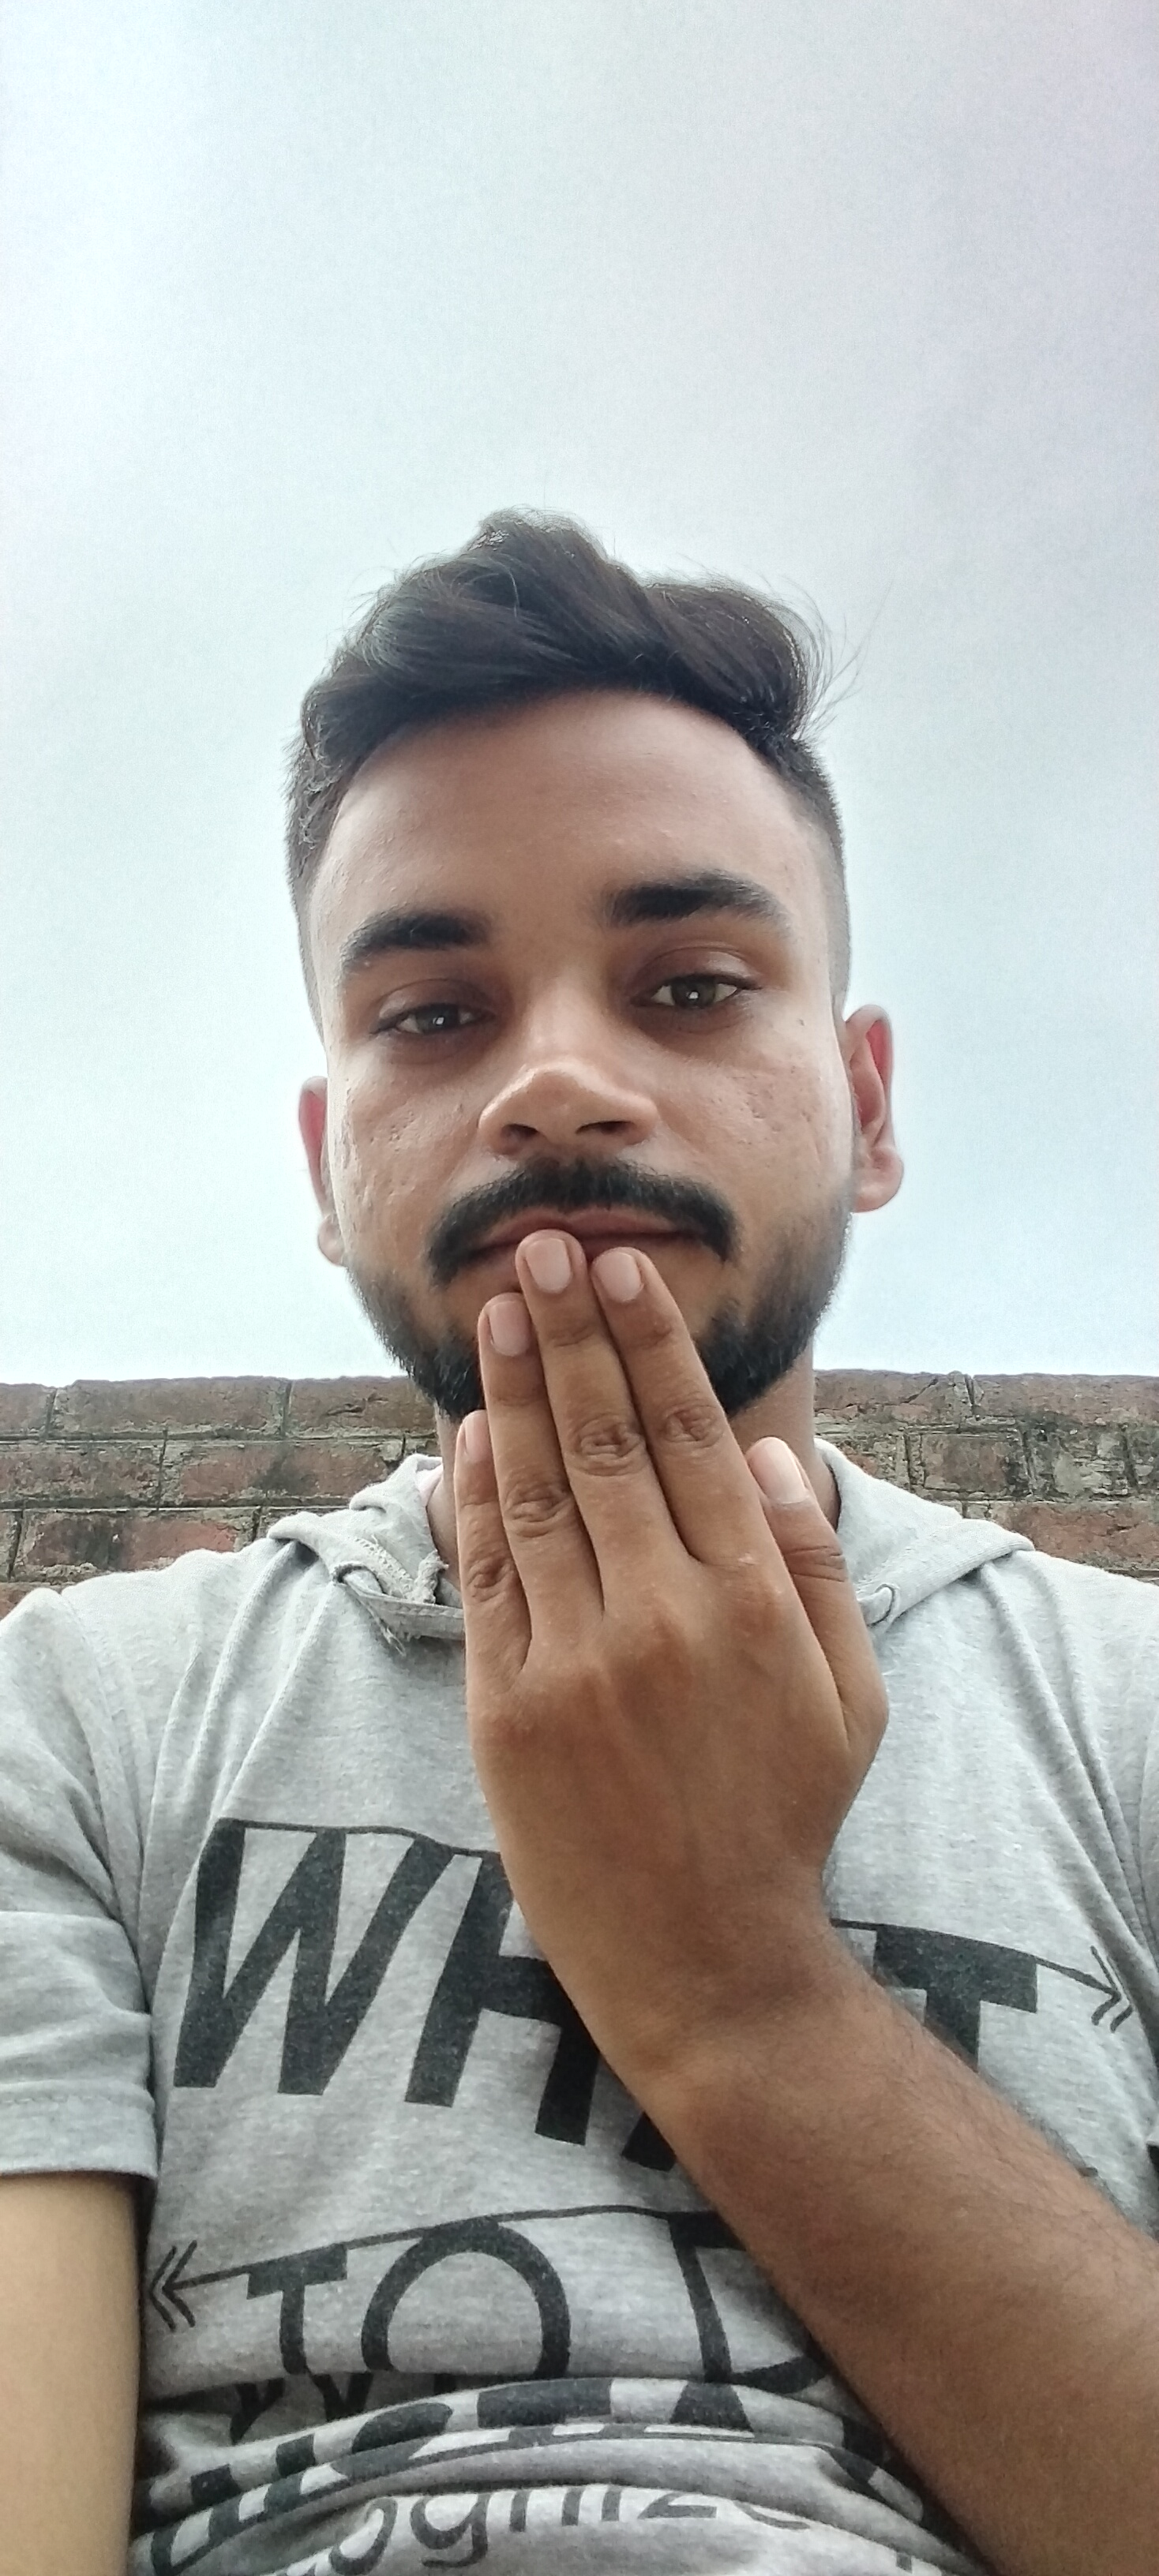Thank You: (434, 1221, 957, 1965)
